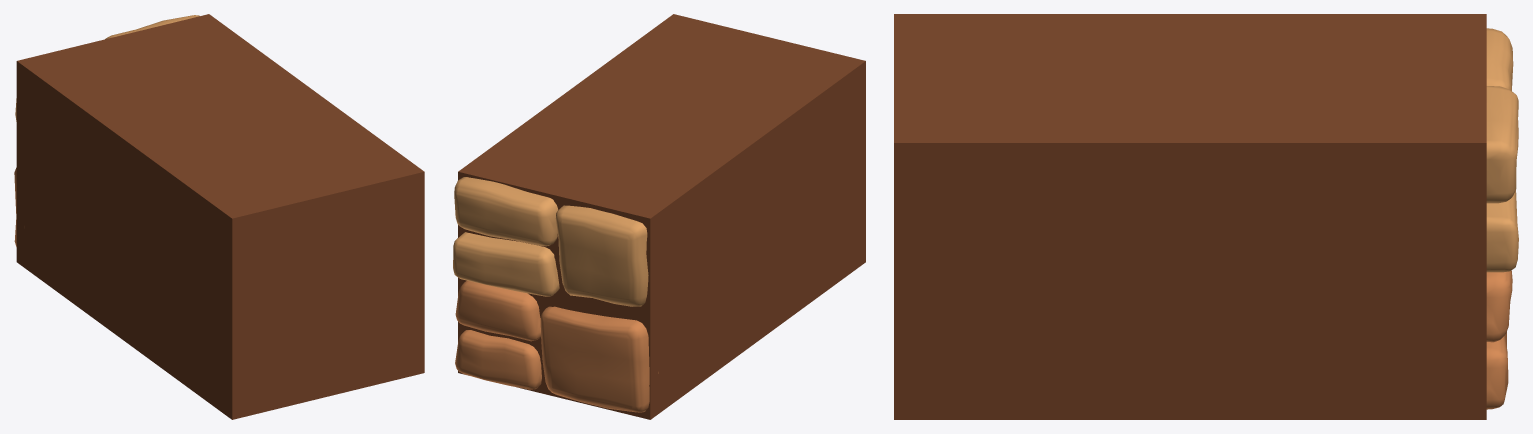
File: SD_G13_Sandstone_Rock_V3.fbx
The picture shows the model from 3 angles, left to right: view 1: azimuth 30°, elevation 25°; view 2: azimuth 150°, elevation 25°; view 3: azimuth 270°, elevation 25°; orthographic projection. The views are drawn at different scales.
Visible parts, largest first — view 1: SD_G13_Sandstone_Rock_V3; view 2: SD_G13_Sandstone_Rock_V3; view 3: SD_G13_Sandstone_Rock_V3.
Boxes of the visible parts, left/top/right/bottom form: SD_G13_Sandstone_Rock_V3: left=14, top=14, right=424, bottom=419; SD_G13_Sandstone_Rock_V3: left=453, top=14, right=865, bottom=419; SD_G13_Sandstone_Rock_V3: left=894, top=14, right=1518, bottom=419.
Size of the model in its own units: 200 by 200 by 409.
